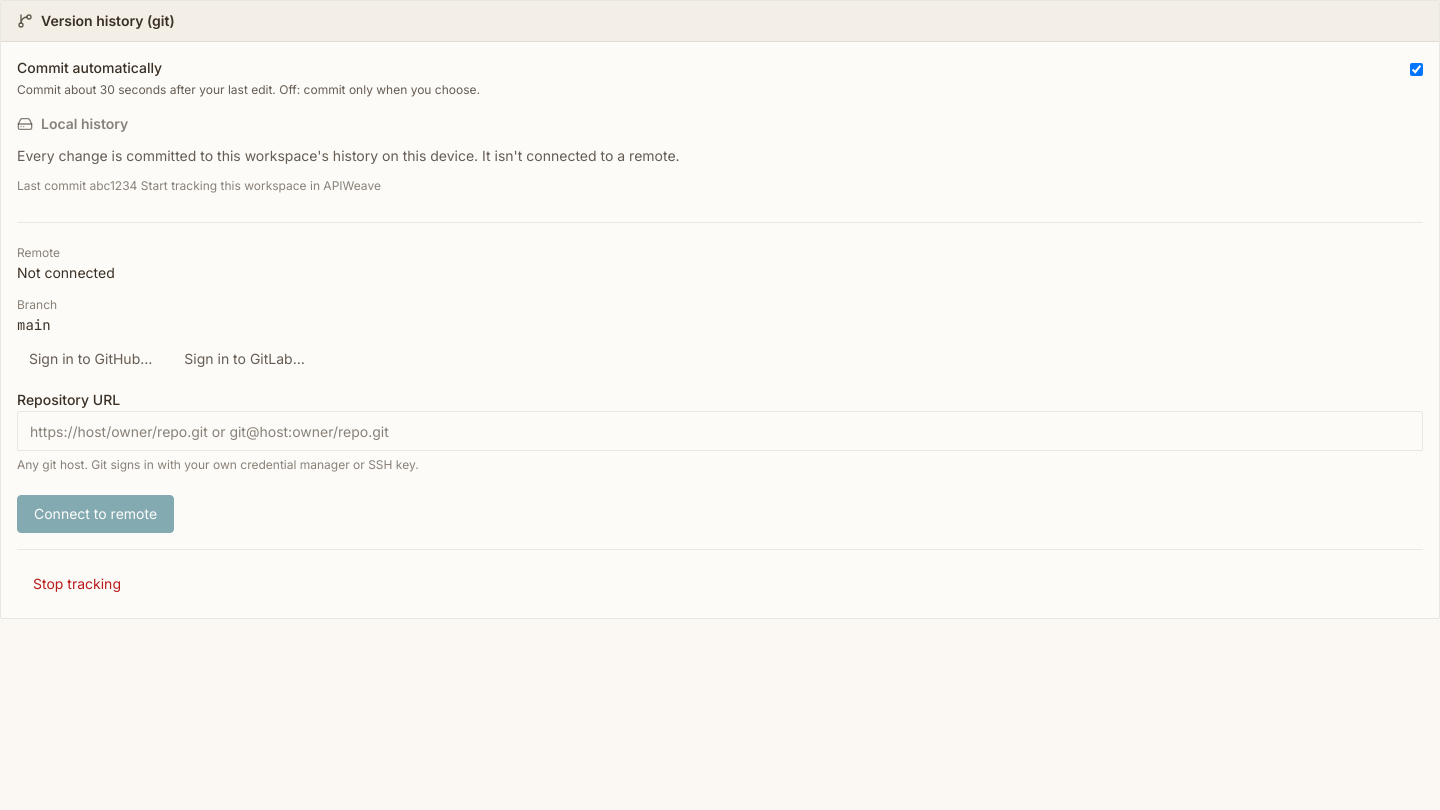
Test: VersionHistoryPanel › opens the merge picker when a connect comes back with a merge waiting
Type "git@github.com:acme/tests.git" into the field named "Repository URL".
click(720, 431); type("git@github.com:acme/tests.git")  # box [17,411,1423,451]
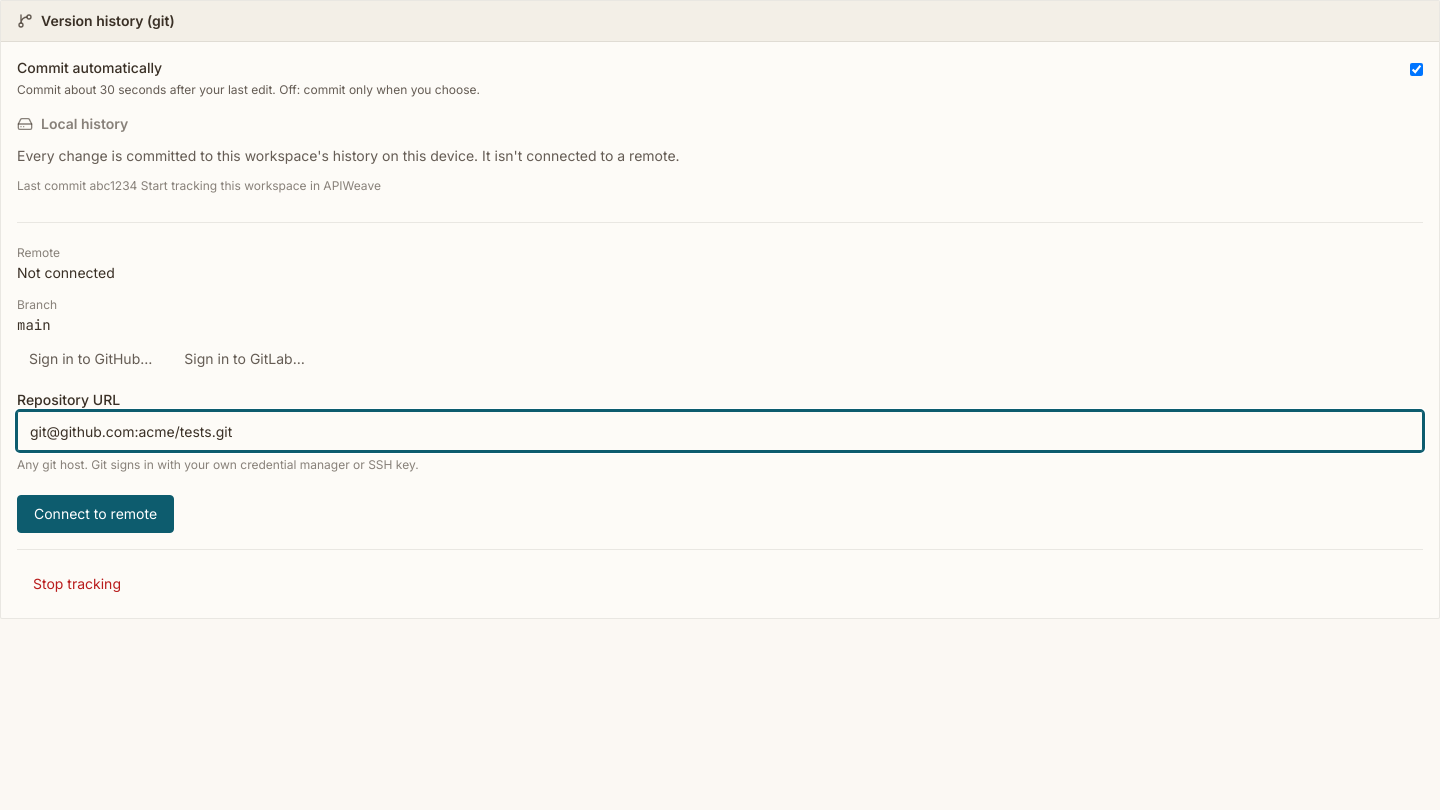
Click the button "Connect to remote".
click(96, 514)  # box [17,495,174,533]
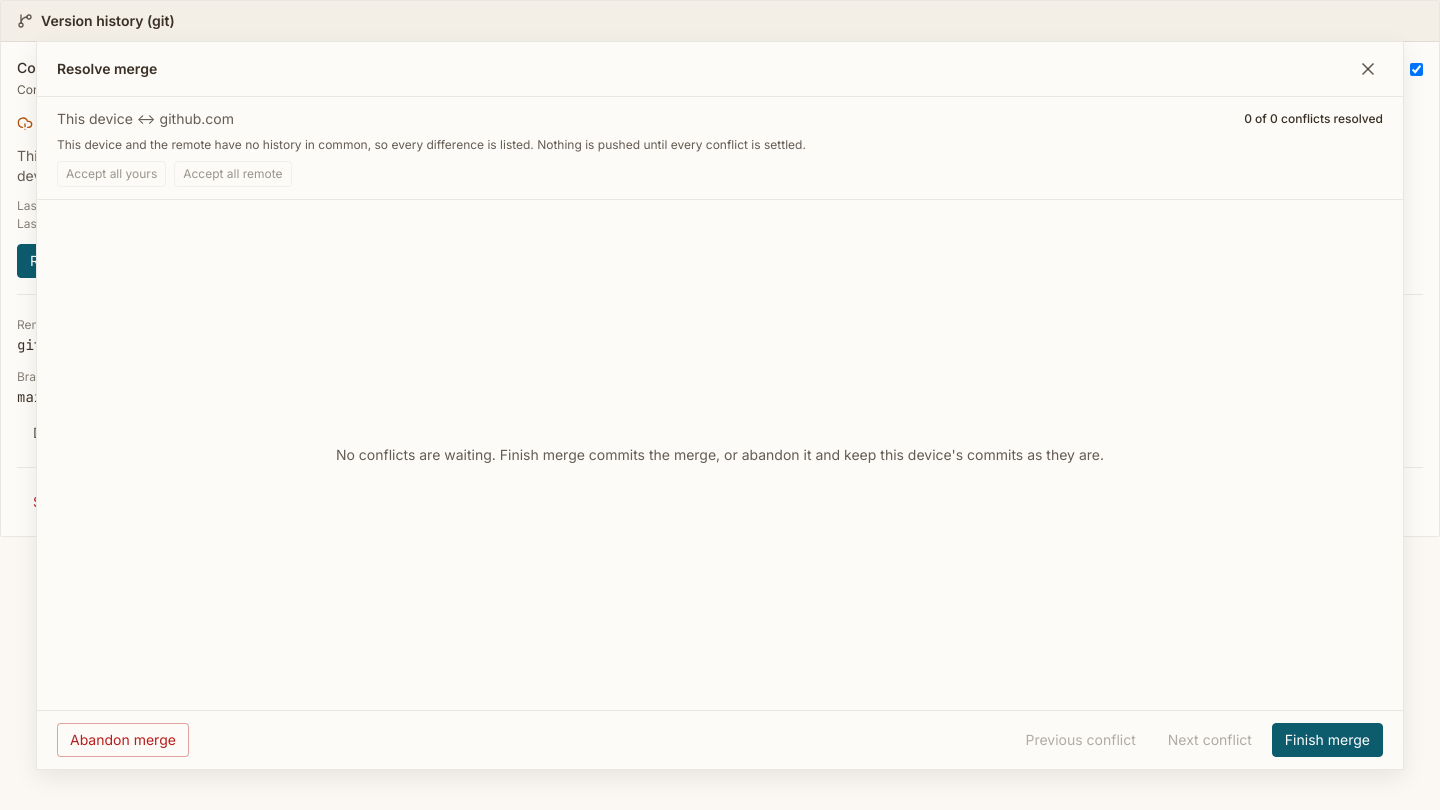
Expected: the text "This device and the remote have no history in common" is shown, [57,136,806,152]
